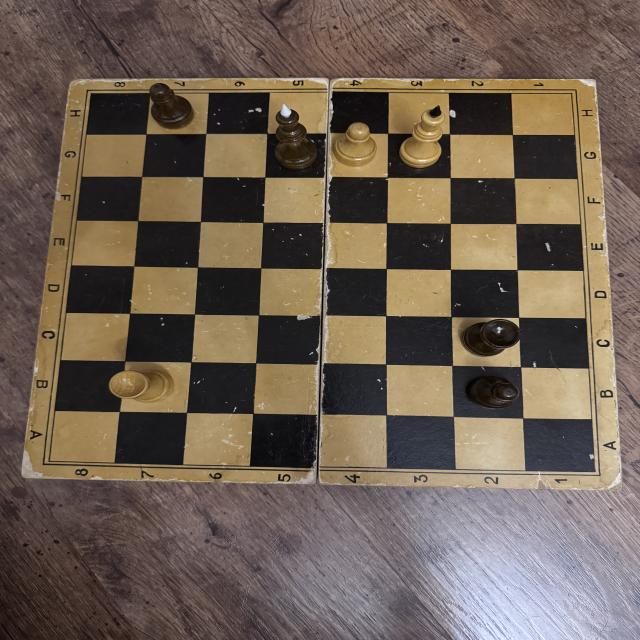black-king: (272, 104, 319, 170)
black-pawn: (148, 81, 196, 131), (464, 373, 523, 410)
black-rook: (461, 319, 523, 359)
white-king: (398, 103, 445, 170)
white-pawn: (334, 120, 377, 168)
white-rook: (109, 368, 175, 403)
